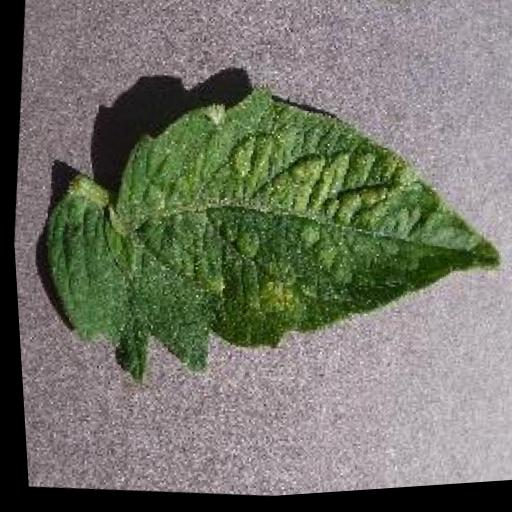Spider Mites: (19, 51, 512, 429)
